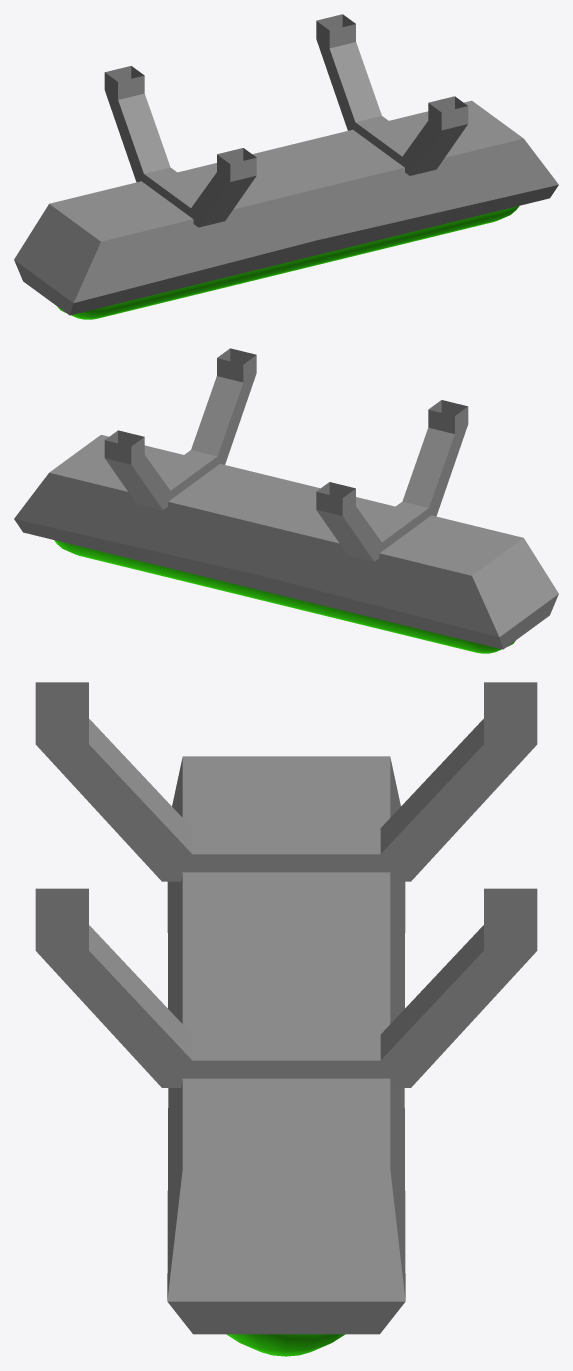
The model's file is Light_Fixture.FBX.
3 renders of one model, top to bottom at view 1: azimuth 30°, elevation 25°; view 2: azimuth 150°, elevation 25°; view 3: azimuth 270°, elevation 25°, orthographic. The views are drawn at different scales.
Parts seen in each view (by area): view 1: Light_Fixture; view 2: Light_Fixture; view 3: Light_Fixture.
Boxes of the visible parts, x1=… form: Light_Fixture: x1=14, y1=14, x2=558, y2=319; Light_Fixture: x1=14, y1=348, x2=558, y2=653; Light_Fixture: x1=35, y1=682, x2=537, y2=1356.
Bounding box in the file's own units: 185 × 64.64 × 82.65.
